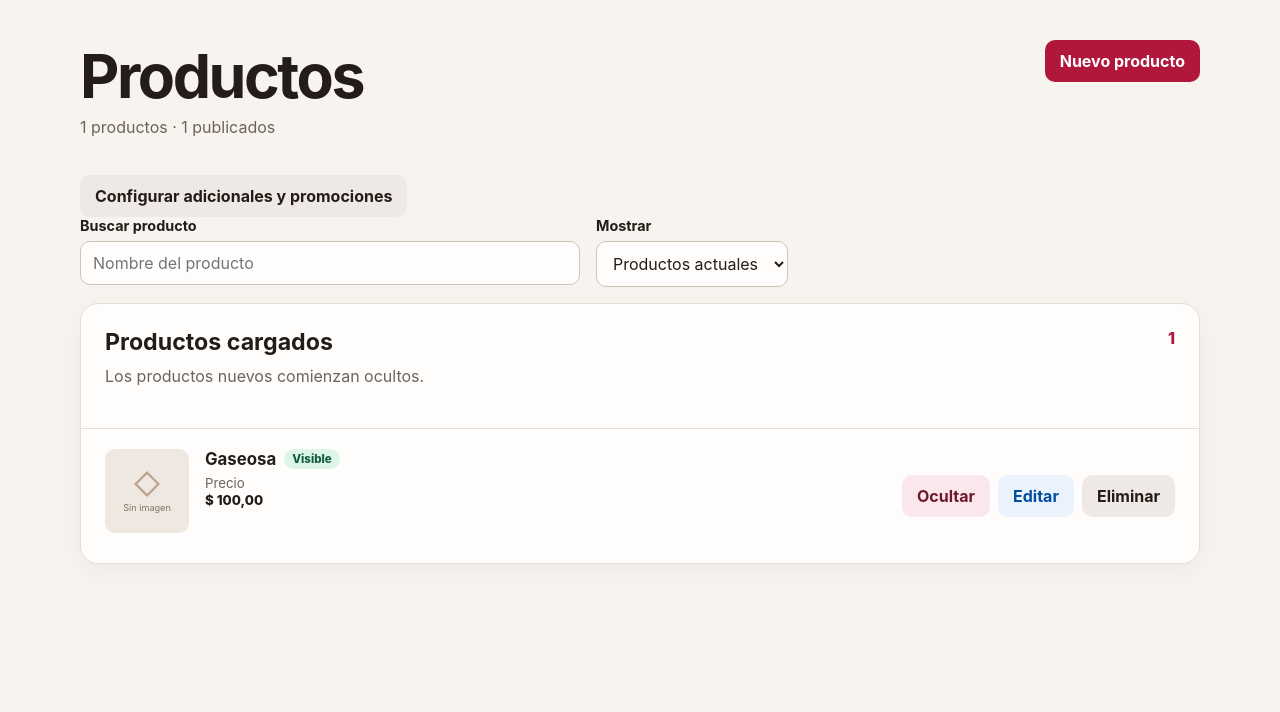
Test: un componente utilizado informa dependencias y no ofrece confirmar el retiro
Click the button with aria-label "Eliminar Gaseosa".
click(1128, 496)  # box [1082,475,1175,517]
(page scrolled)
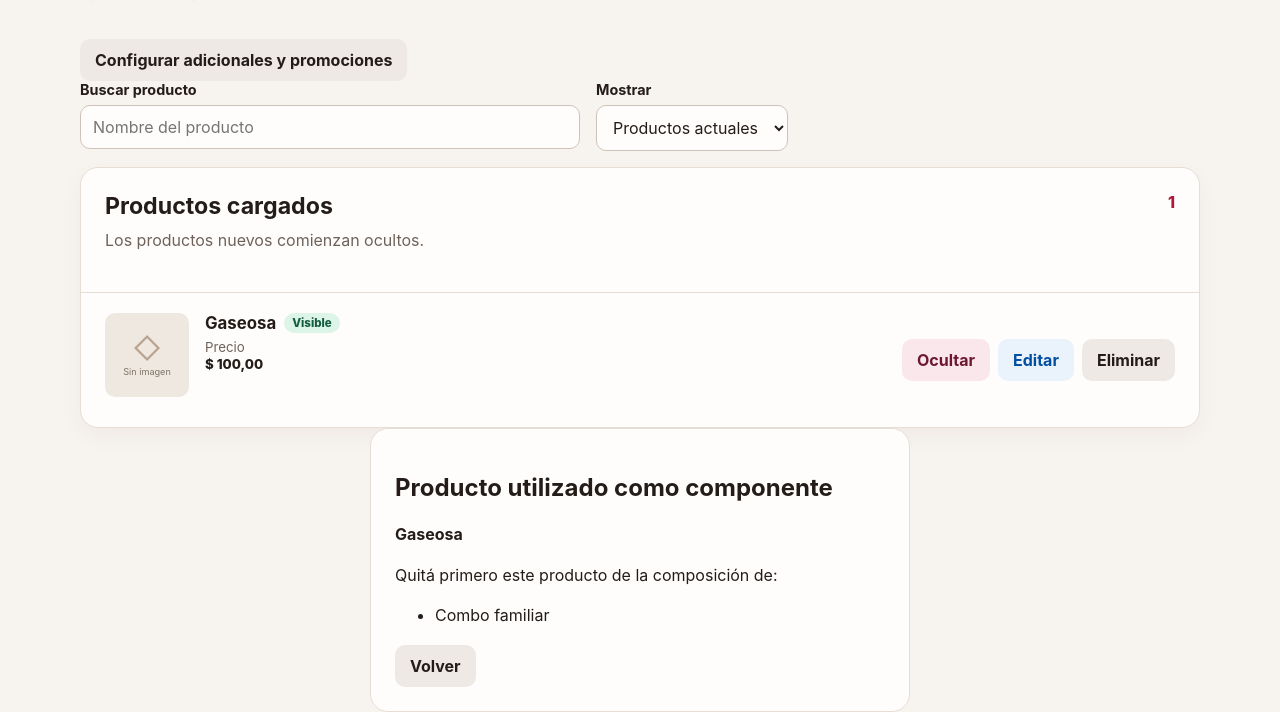
Check: the list item "Combo familiar" is shown, box [435,605,550,625]
